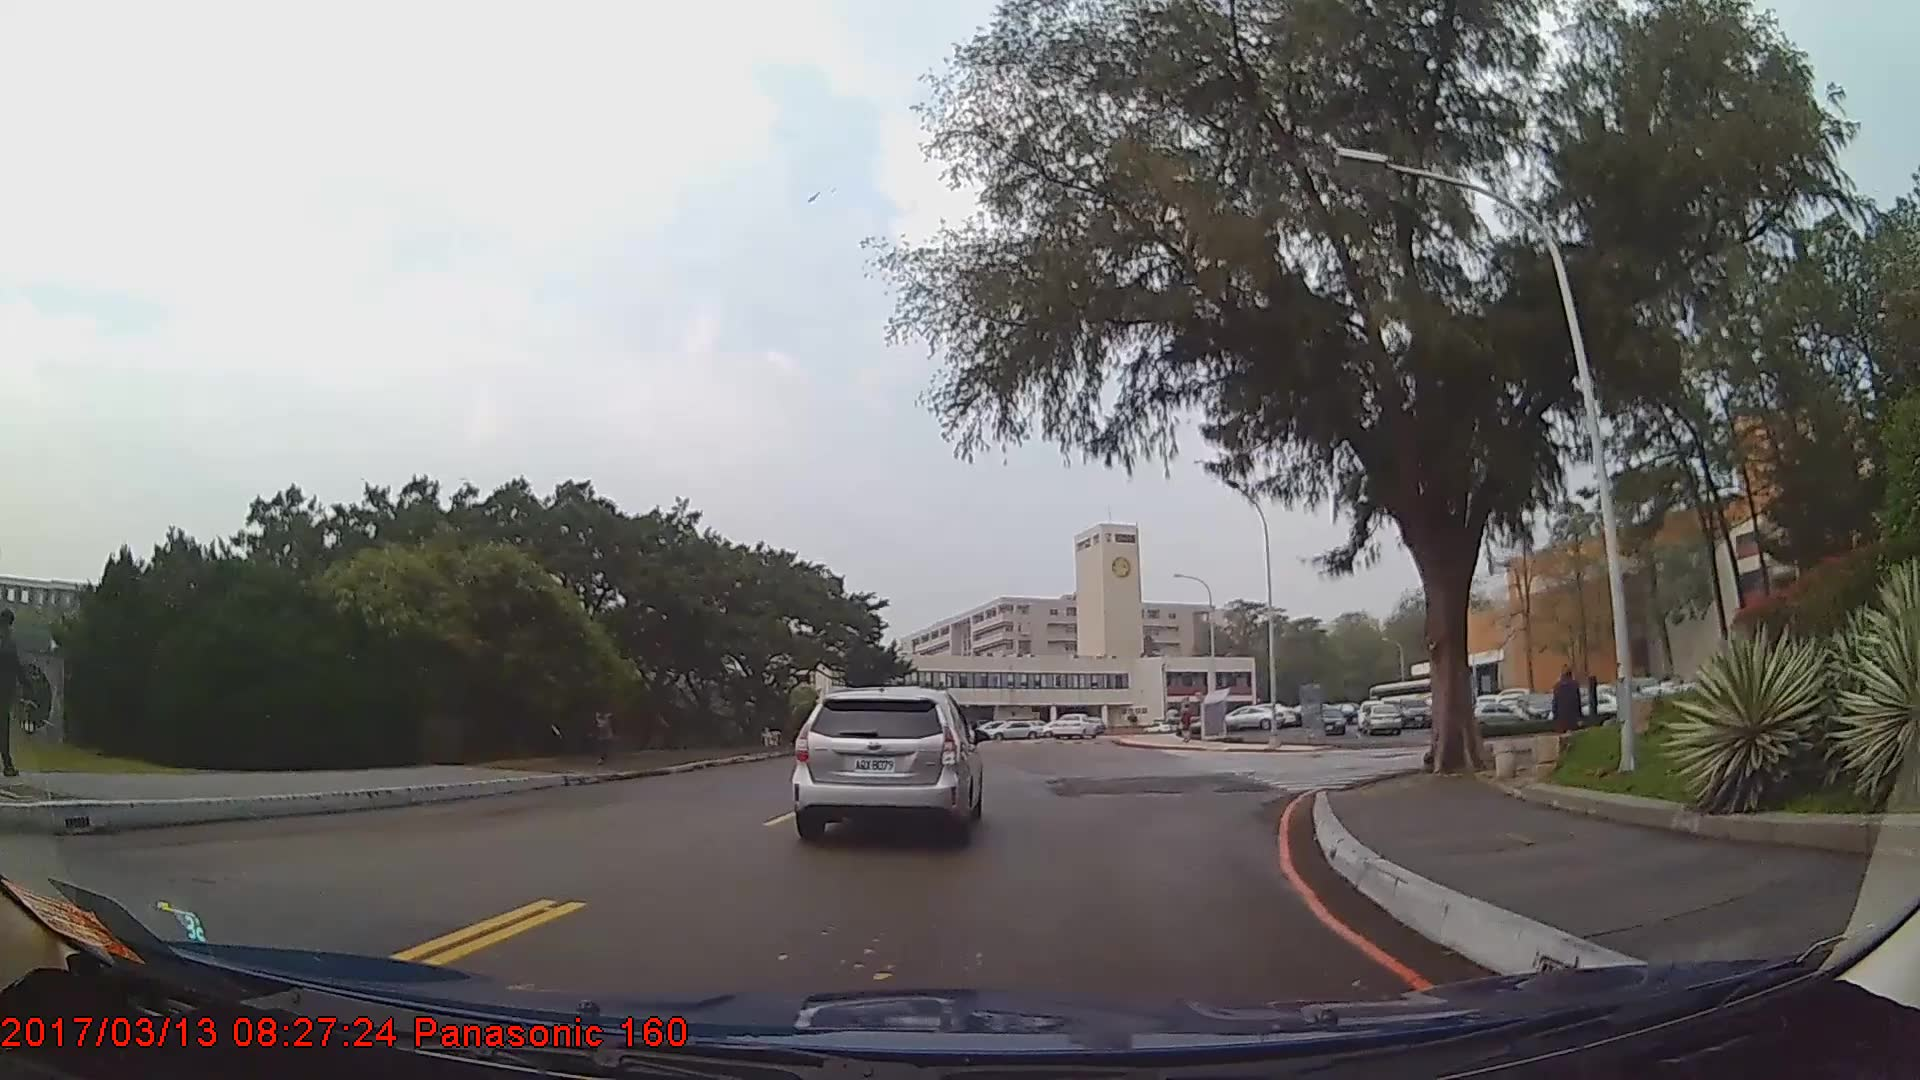pedestrian: (0, 606, 40, 780), (1551, 659, 1587, 775)
vehicle: (793, 684, 984, 847), (1456, 698, 1532, 730), (1215, 704, 1284, 729), (1362, 703, 1404, 739), (984, 720, 1041, 743), (1051, 713, 1098, 740), (1313, 706, 1350, 739), (1396, 697, 1433, 728)
